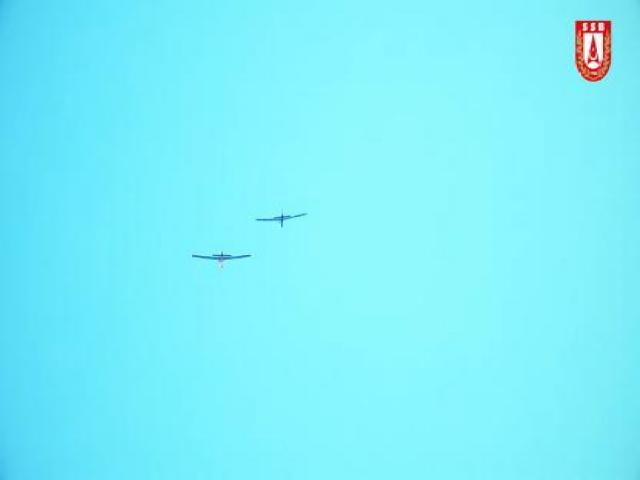uav: (190, 248, 252, 267), (254, 208, 306, 229)
